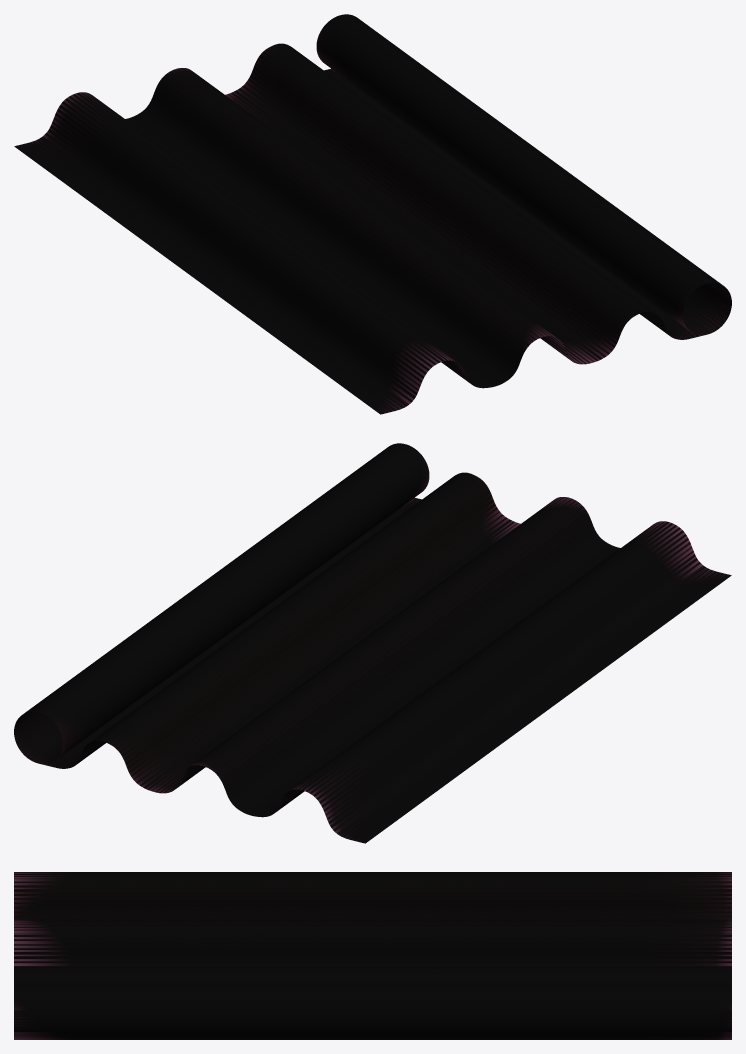
File: Antares5.glb
3 views of the same model, one above another, from view 1: azimuth 30°, elevation 25°; view 2: azimuth 150°, elevation 25°; view 3: azimuth 270°, elevation 25° (orthographic). The views are drawn at different scales.
Parts seen in each view (by area): view 1: Plane.001; view 2: Plane.001; view 3: Plane.001.
Part boxes in pixels (left/top/right/bottom): Plane.001: left=14, top=14, right=731, bottom=414; Plane.001: left=14, top=443, right=731, bottom=843; Plane.001: left=14, top=872, right=731, bottom=1039.
Size of what is drawn, in the model's own units: 0.2768 by 0.0388 by 0.5.
Materials: 1 (1 with a texture image).
